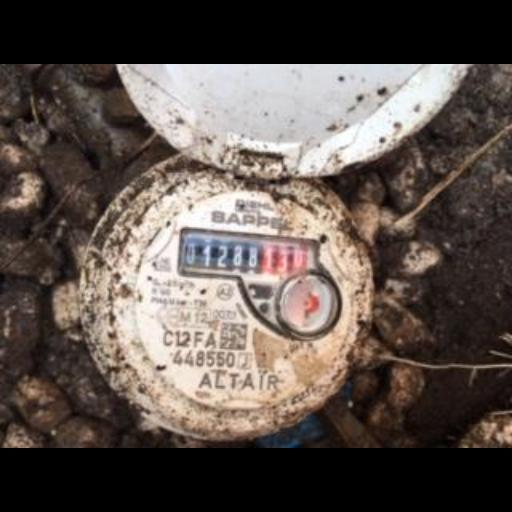0: (290, 242, 309, 277), (182, 235, 198, 269)
1: (260, 241, 279, 275), (197, 237, 216, 269)
2: (213, 237, 231, 271)
3: (275, 243, 291, 277)
8: (228, 238, 247, 272), (244, 240, 263, 274)
border_water_meter_number: (178, 226, 319, 280)
